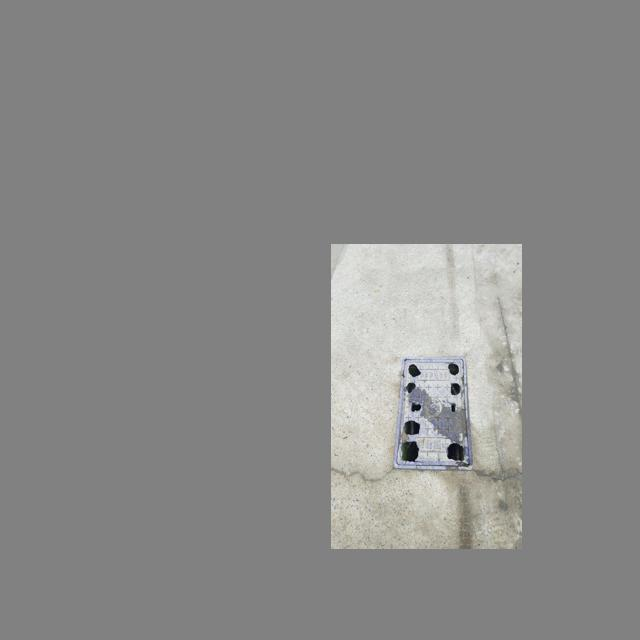broke: (393, 356, 473, 471)
